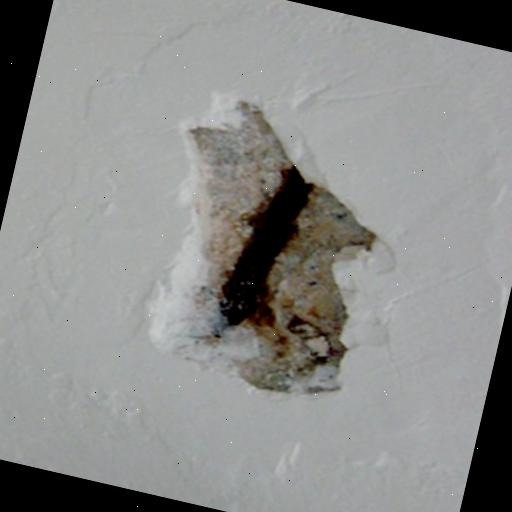spalling: (134, 83, 385, 404)
